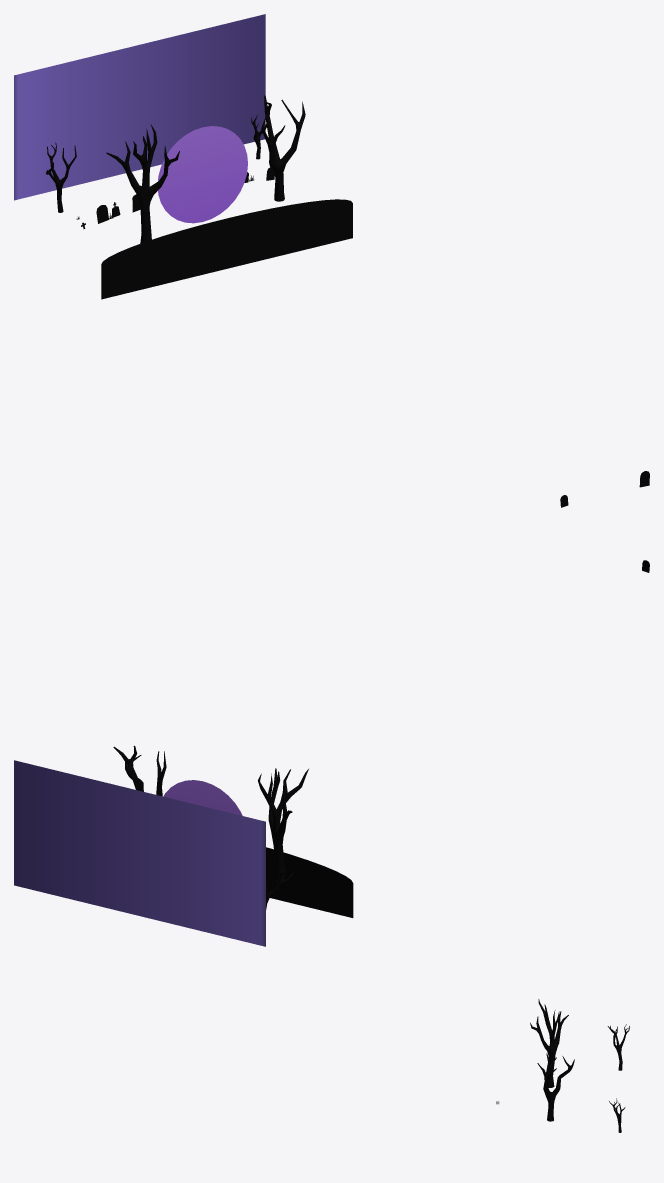
3 renders of one model, top to bottom at view 1: azimuth 30°, elevation 25°; view 2: azimuth 150°, elevation 25°; view 3: azimuth 270°, elevation 25°, orthographic. The views are drawn at different scales.
Parts seen in each view (by area): view 1: Plane, Ground, Cylinder, DeadTree5, DeadTree2; view 2: Plane, Ground, DeadTree5, Cylinder, DeadTree2; view 3: DeadTree5, DeadTree2.
Boxes of the visible parts, box(x1,y1,x2,y2) form: Plane: box(14, 14, 265, 200); Ground: box(101, 199, 352, 299); Cylinder: box(158, 126, 247, 223); DeadTree5: box(106, 124, 179, 243); DeadTree2: box(261, 95, 305, 201); Plane: box(14, 760, 265, 946); Ground: box(266, 847, 353, 917); DeadTree5: box(258, 768, 308, 889); Cylinder: box(163, 780, 242, 815); DeadTree2: box(113, 745, 166, 796); DeadTree5: box(530, 999, 568, 1087); DeadTree2: box(537, 1053, 574, 1121).
Size of the model in its own units: 60 by 36.52 by 192.
2 materials, 2 textured.
